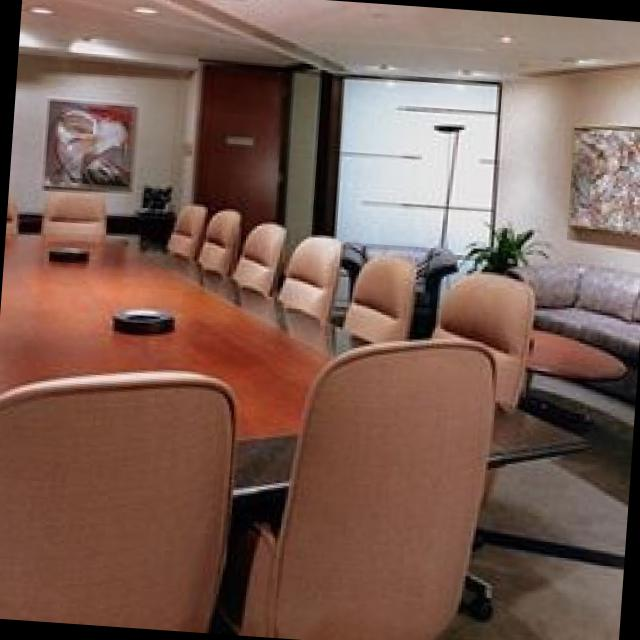2001: (339, 74, 502, 257)
armchair crop: (342, 241, 464, 335)
ashtray: (116, 305, 183, 333), (52, 242, 92, 258)
ceiling beam: (23, 0, 640, 79)
ceiling lamps: (31, 0, 64, 13), (136, 2, 162, 13)
chair: (0, 368, 237, 628), (439, 268, 542, 399), (345, 252, 416, 339), (282, 231, 348, 318), (236, 219, 286, 294), (197, 206, 245, 271), (46, 191, 111, 233), (173, 201, 209, 256)
chair -occluded-: (221, 337, 499, 640)
conference table: (0, 230, 594, 526)
door bars: (196, 59, 292, 242)
lamp crop: (437, 119, 474, 244)
painting crop: (49, 88, 140, 187), (570, 123, 640, 232)
plant -x: (465, 214, 559, 268)
small table part: (532, 328, 628, 381)
sofa bed: (509, 258, 640, 407)
table -X: (2, 226, 384, 428)
